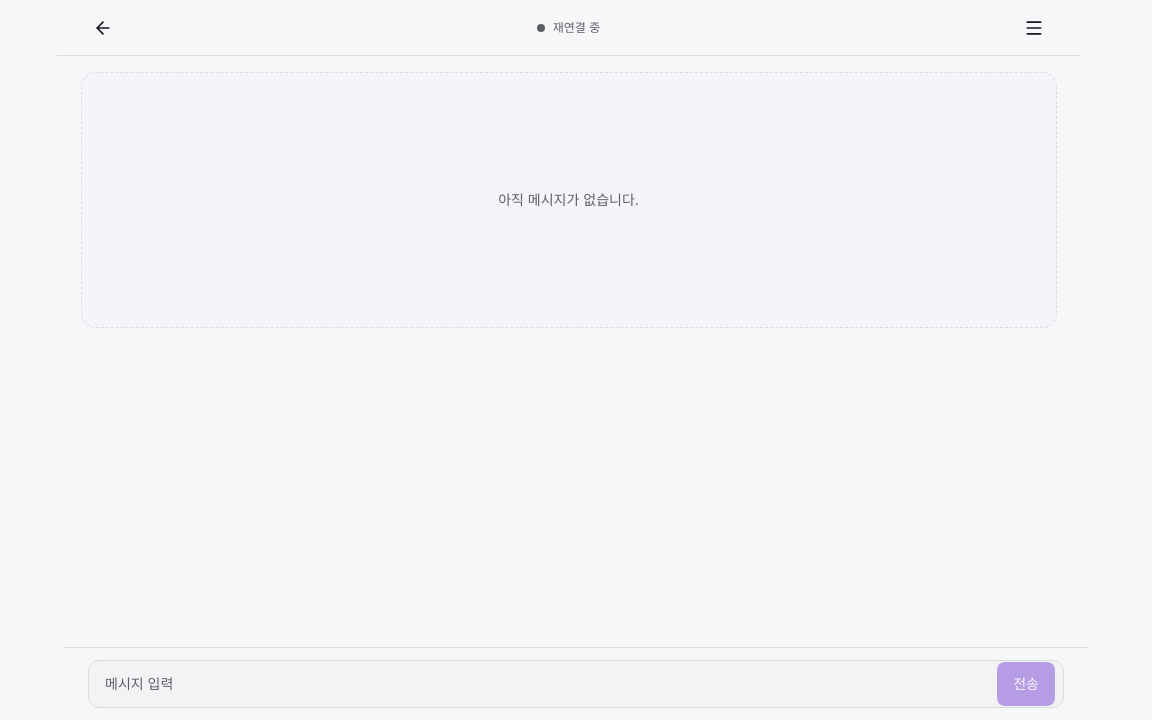
Scenario: BusinessMobileChatRoom › labels navigation honestly instead of claiming to leave the room
The image size is (1152, 720).
Click the button named "대화 정보".
click(1034, 28)  # box [1012, 6, 1056, 50]
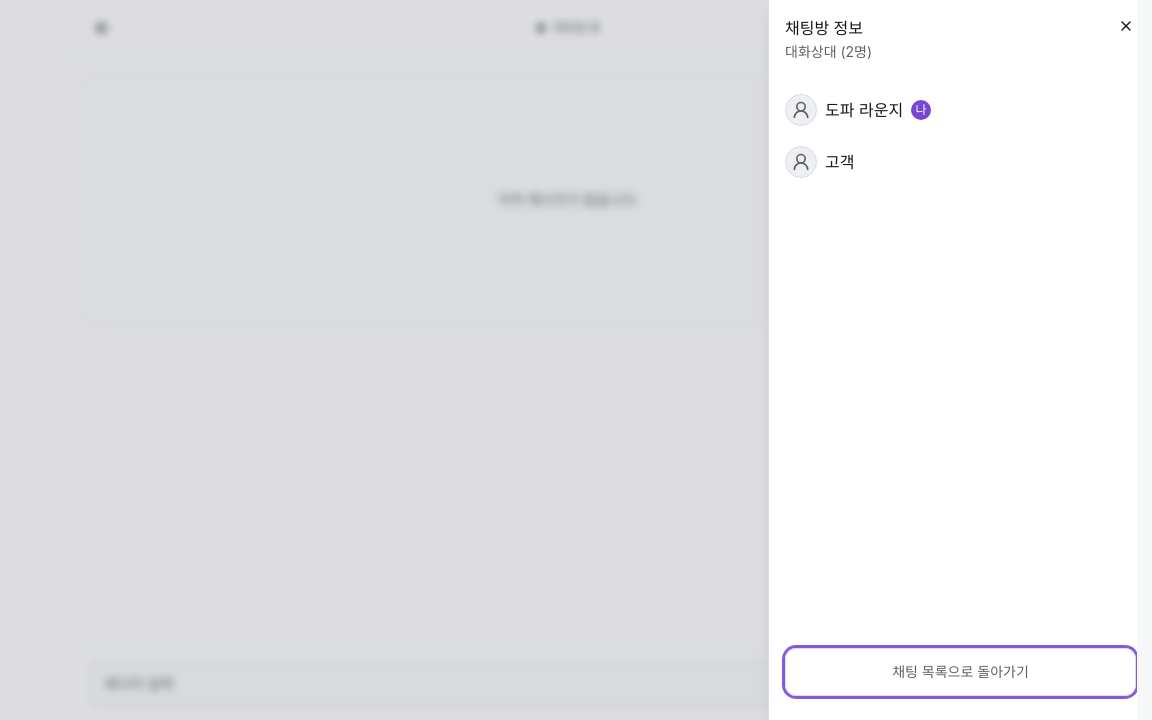
Result: the button "채팅 목록으로 돌아가기" is shown at [785, 648, 1136, 696]
